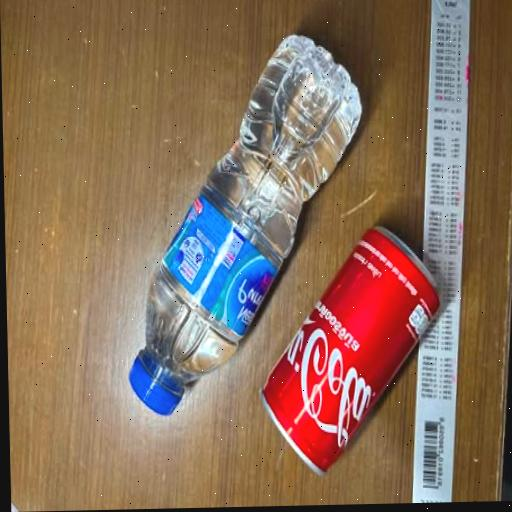bottle: (49, 0, 400, 479)
canned: (242, 168, 487, 505)
